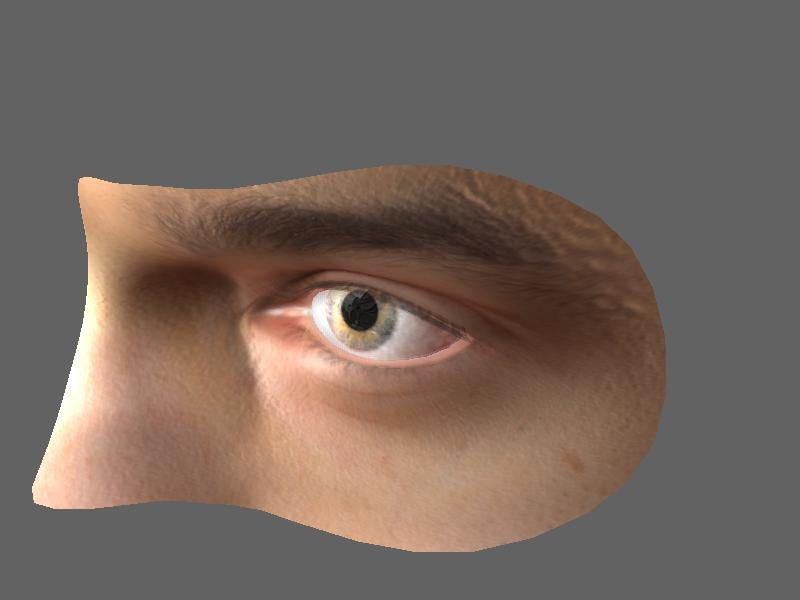iris: (325, 284, 401, 352)
